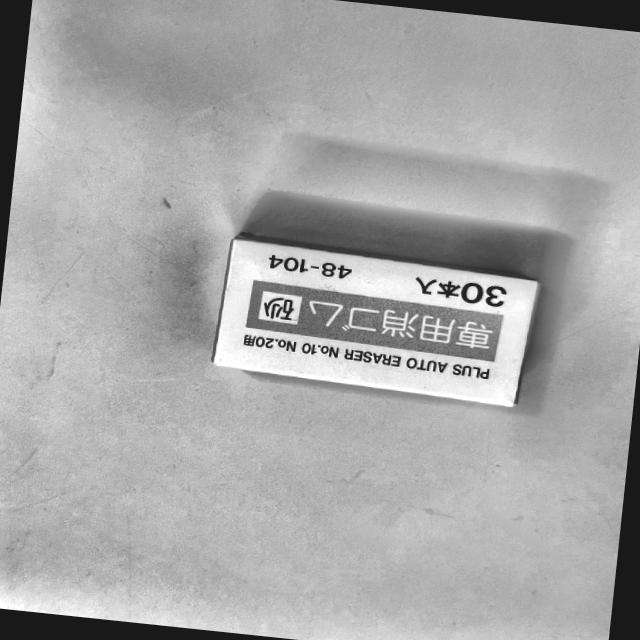eraser: (166, 192, 597, 440)
